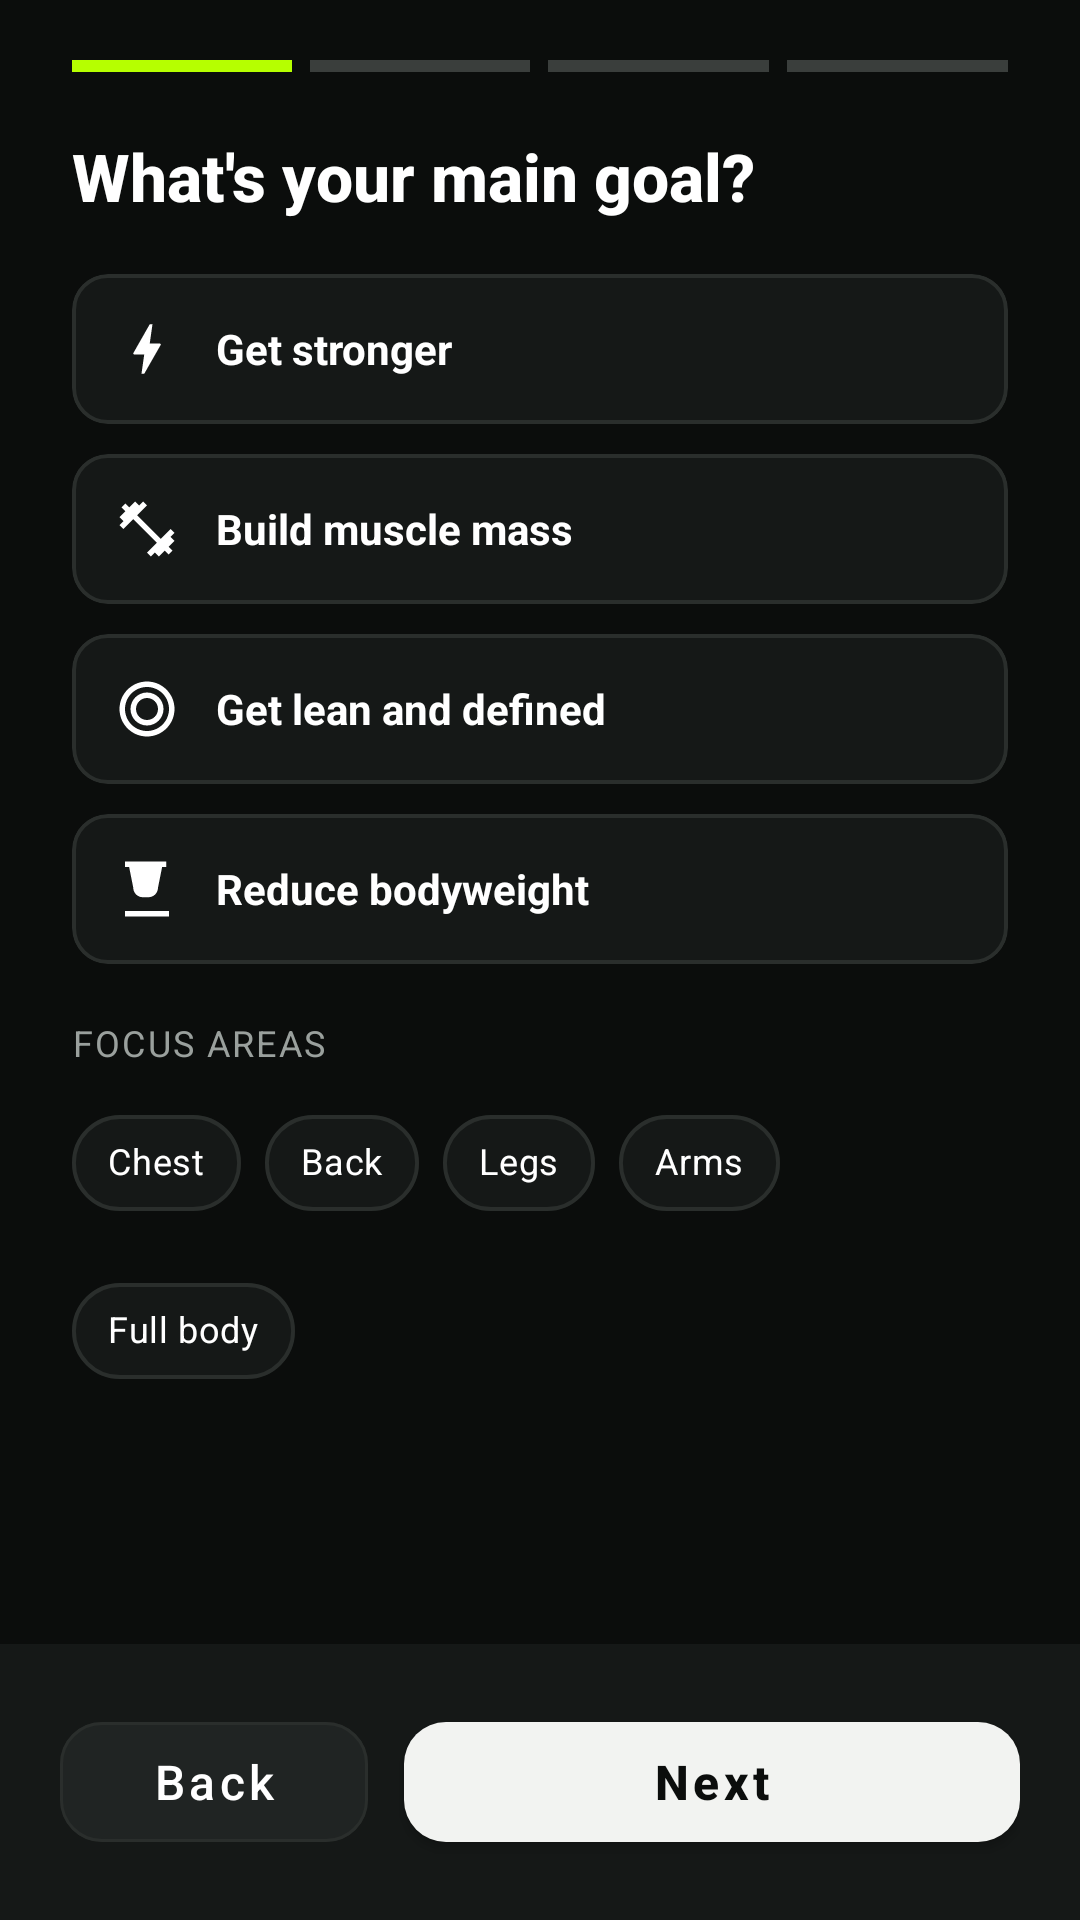

Where icons sit on this 1080 x 1920 app screen, as rect(x1, y1, x2, y2):
goal lean: rect(119, 681, 175, 737)
goal muscle: rect(119, 501, 175, 557)
goal stronger: rect(133, 324, 161, 374)
